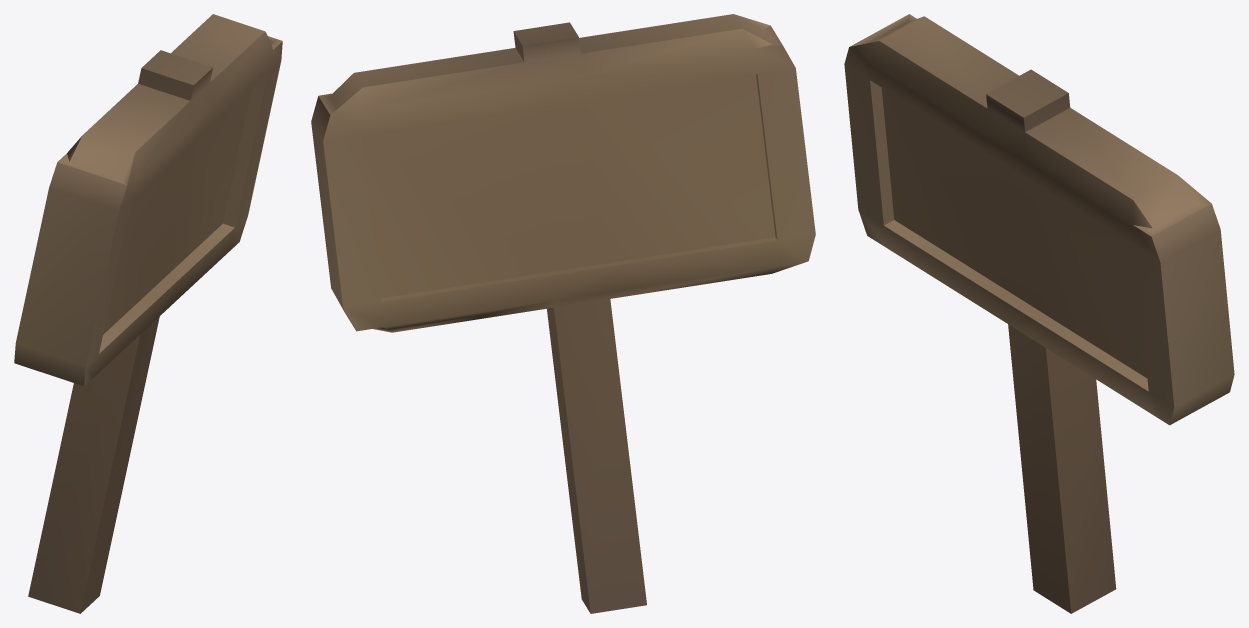
Rendered from Sign.gltf.
3 views of the same model, side by side, from view 1: azimuth 30°, elevation 25°; view 2: azimuth 150°, elevation 25°; view 3: azimuth 270°, elevation 25° (orthographic). The views are drawn at different scales.
Parts seen in each view (by area): view 1: Sign; view 2: Sign; view 3: Sign.
Part boxes in pixels (bbox=[...]): Sign: bbox=[14, 14, 282, 613]; Sign: bbox=[311, 14, 815, 613]; Sign: bbox=[844, 14, 1234, 613].
Bounding box in the file's own units: 1.24 × 1.66 × 1.06.
